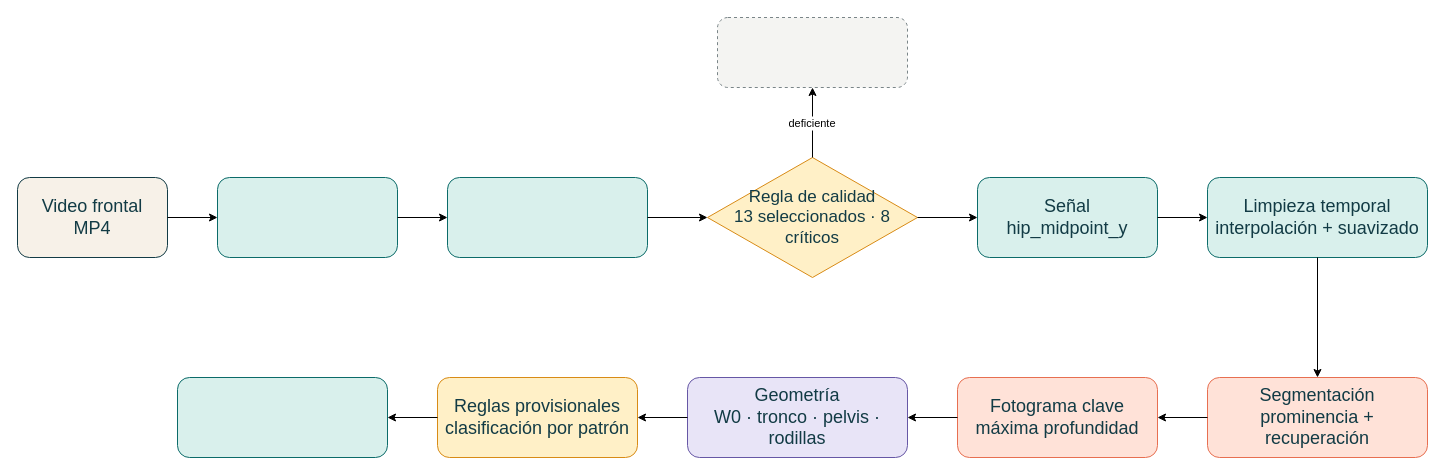
Some shapes in this 1445 by 475 pixel diagram are drawn without their labels. Each missing label, with the centre of its shape:
Incidencia conservada sin evidencia geométrica: the point at 812,52
Informe web + artefactos CSV · JSON · imágenes · video: the point at 282,417
MediaPipe Pose 33 puntos + visibilidad: the point at 547,217
OpenCV Decodifica fotogramas: the point at 307,217
